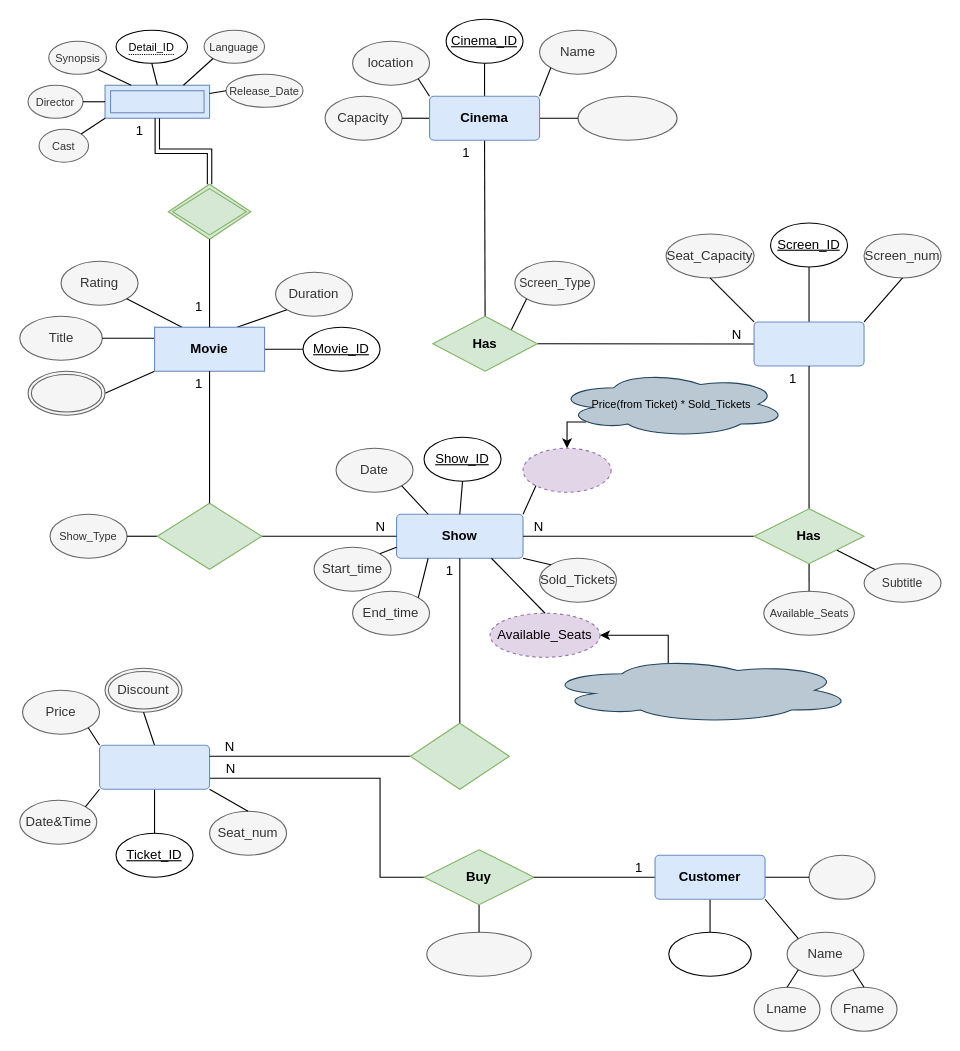
This 960x1051 diagram has some shape labels left out. Each missing label, with the box of its shape:
Customer_ID: (668, 931, 751, 976)
Genre: (27, 370, 105, 415)
Has_Detail: (167, 183, 251, 239)
Has_Ticket: (409, 722, 509, 789)
Movie_Detail: (104, 84, 210, 118)
num_of_screen: (577, 95, 677, 140)
Number_of_Tickets: (426, 931, 531, 976)
Phone: (808, 854, 875, 899)
Screen: (753, 321, 864, 366)
Seat_Capacity(from Screen) - Sold_Tickets: (544, 656, 853, 723)
Show_in: (156, 502, 262, 569)
Ticket: (98, 744, 210, 789)
Total_Income: (522, 447, 611, 492)
